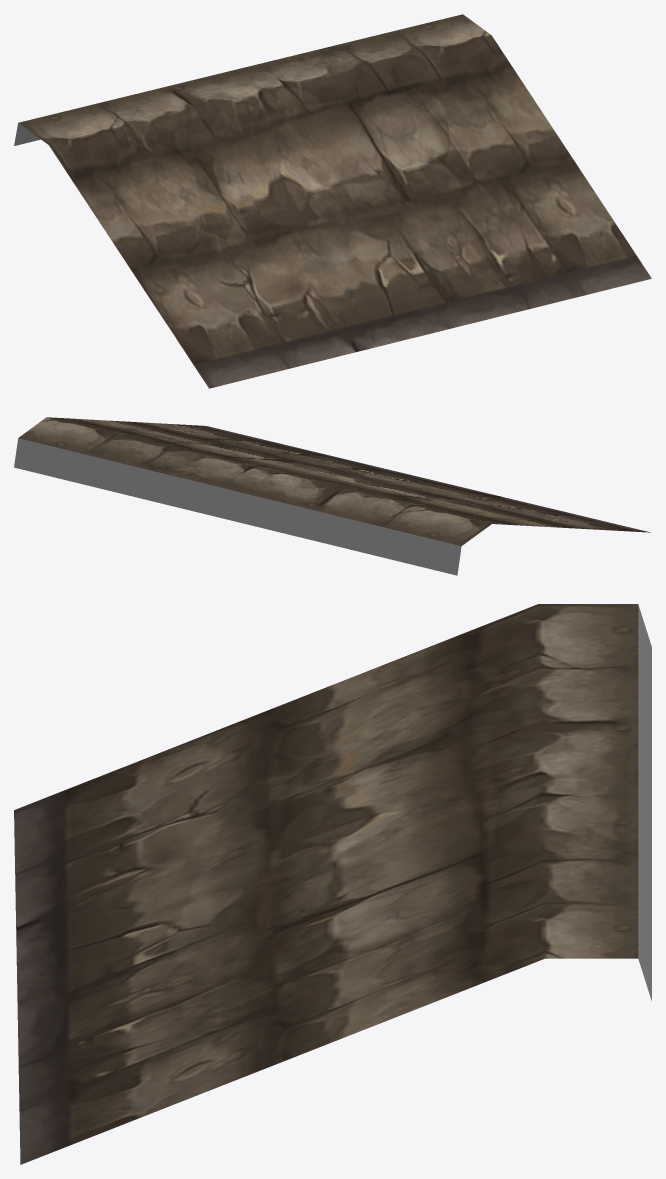
Rendered from stair_2_col.FBX.
3 views of the same model, one above another, from view 1: azimuth 30°, elevation 25°; view 2: azimuth 150°, elevation 25°; view 3: azimuth 270°, elevation 25° (orthographic). The views are drawn at different scales.
Parts seen in each view (by area): view 1: stair_2_nav; view 2: stair_2_nav; view 3: stair_2_nav.
Boxes of the visible parts, x1,y1,x2,y2 form: stair_2_nav: (14, 14, 651, 388); stair_2_nav: (14, 417, 650, 575); stair_2_nav: (14, 604, 651, 1164).
Bounding box in the file's own units: 4.25 × 1.15 × 3.23.
